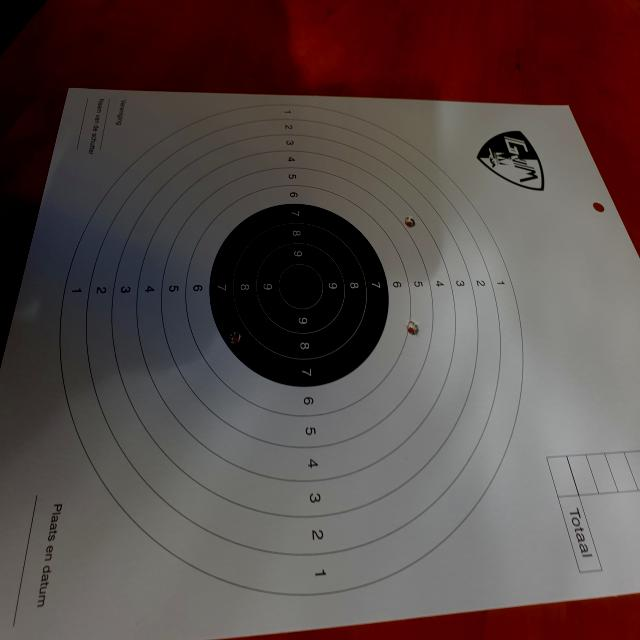4: (404, 216, 416, 228)
6: (405, 317, 421, 338)
7: (226, 327, 243, 350)
Target: (57, 100, 526, 598)
black_contour: (212, 201, 390, 388)
